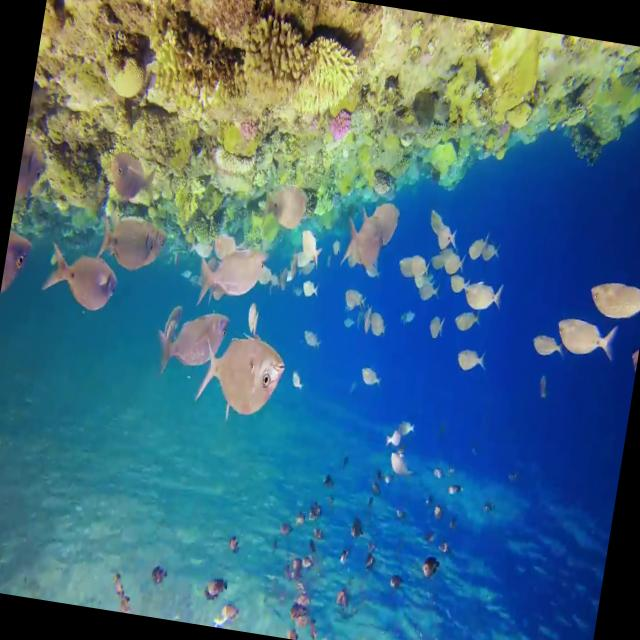fish: (194, 332, 290, 420), (146, 301, 230, 383), (195, 240, 271, 312), (44, 246, 120, 312), (344, 188, 407, 267), (100, 210, 170, 280), (551, 316, 613, 359), (588, 274, 640, 325)
